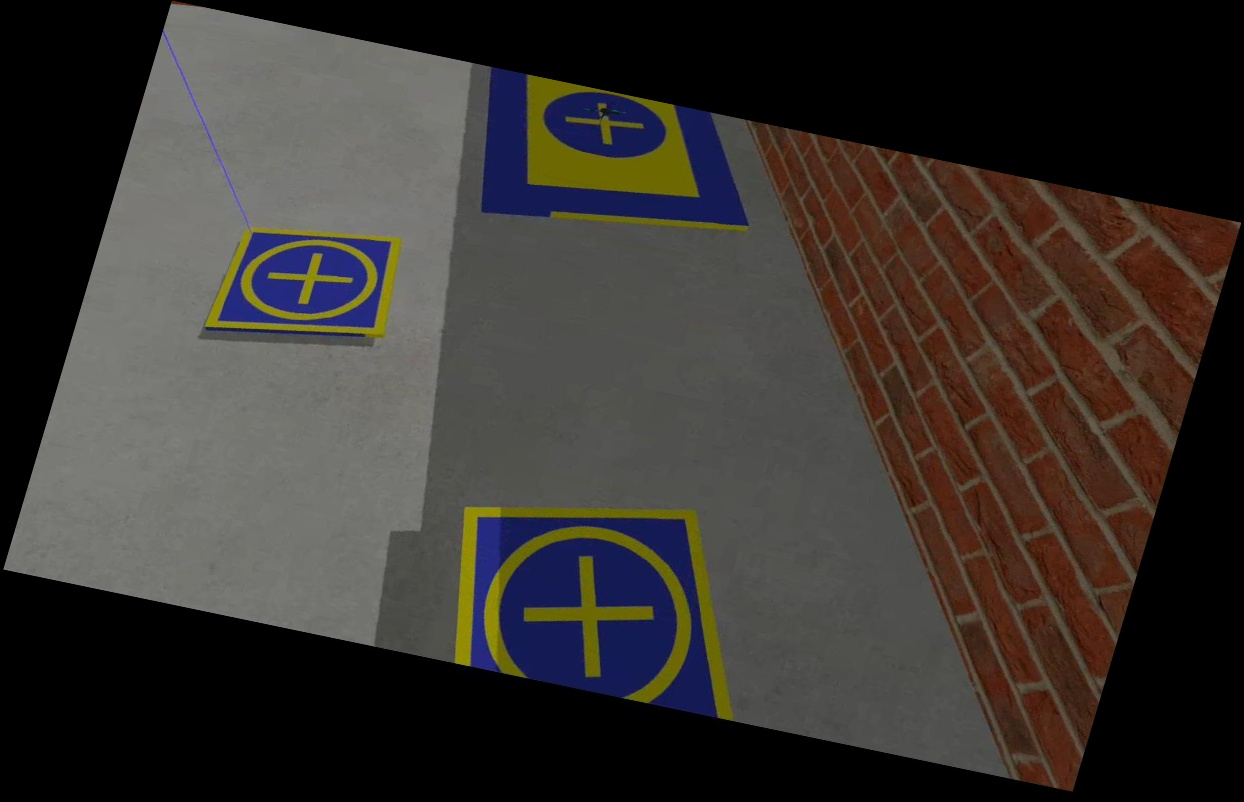large_base: (450, 67, 780, 268)
small_base: (417, 461, 788, 722), (200, 202, 415, 369)
